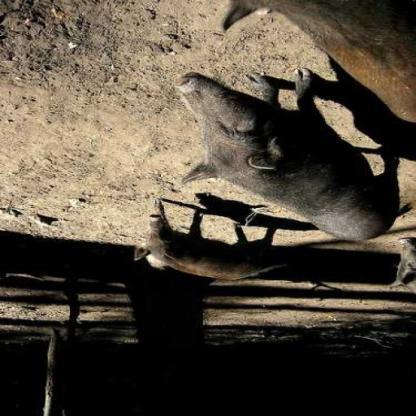boar: (169, 49, 415, 233), (130, 207, 290, 269)
